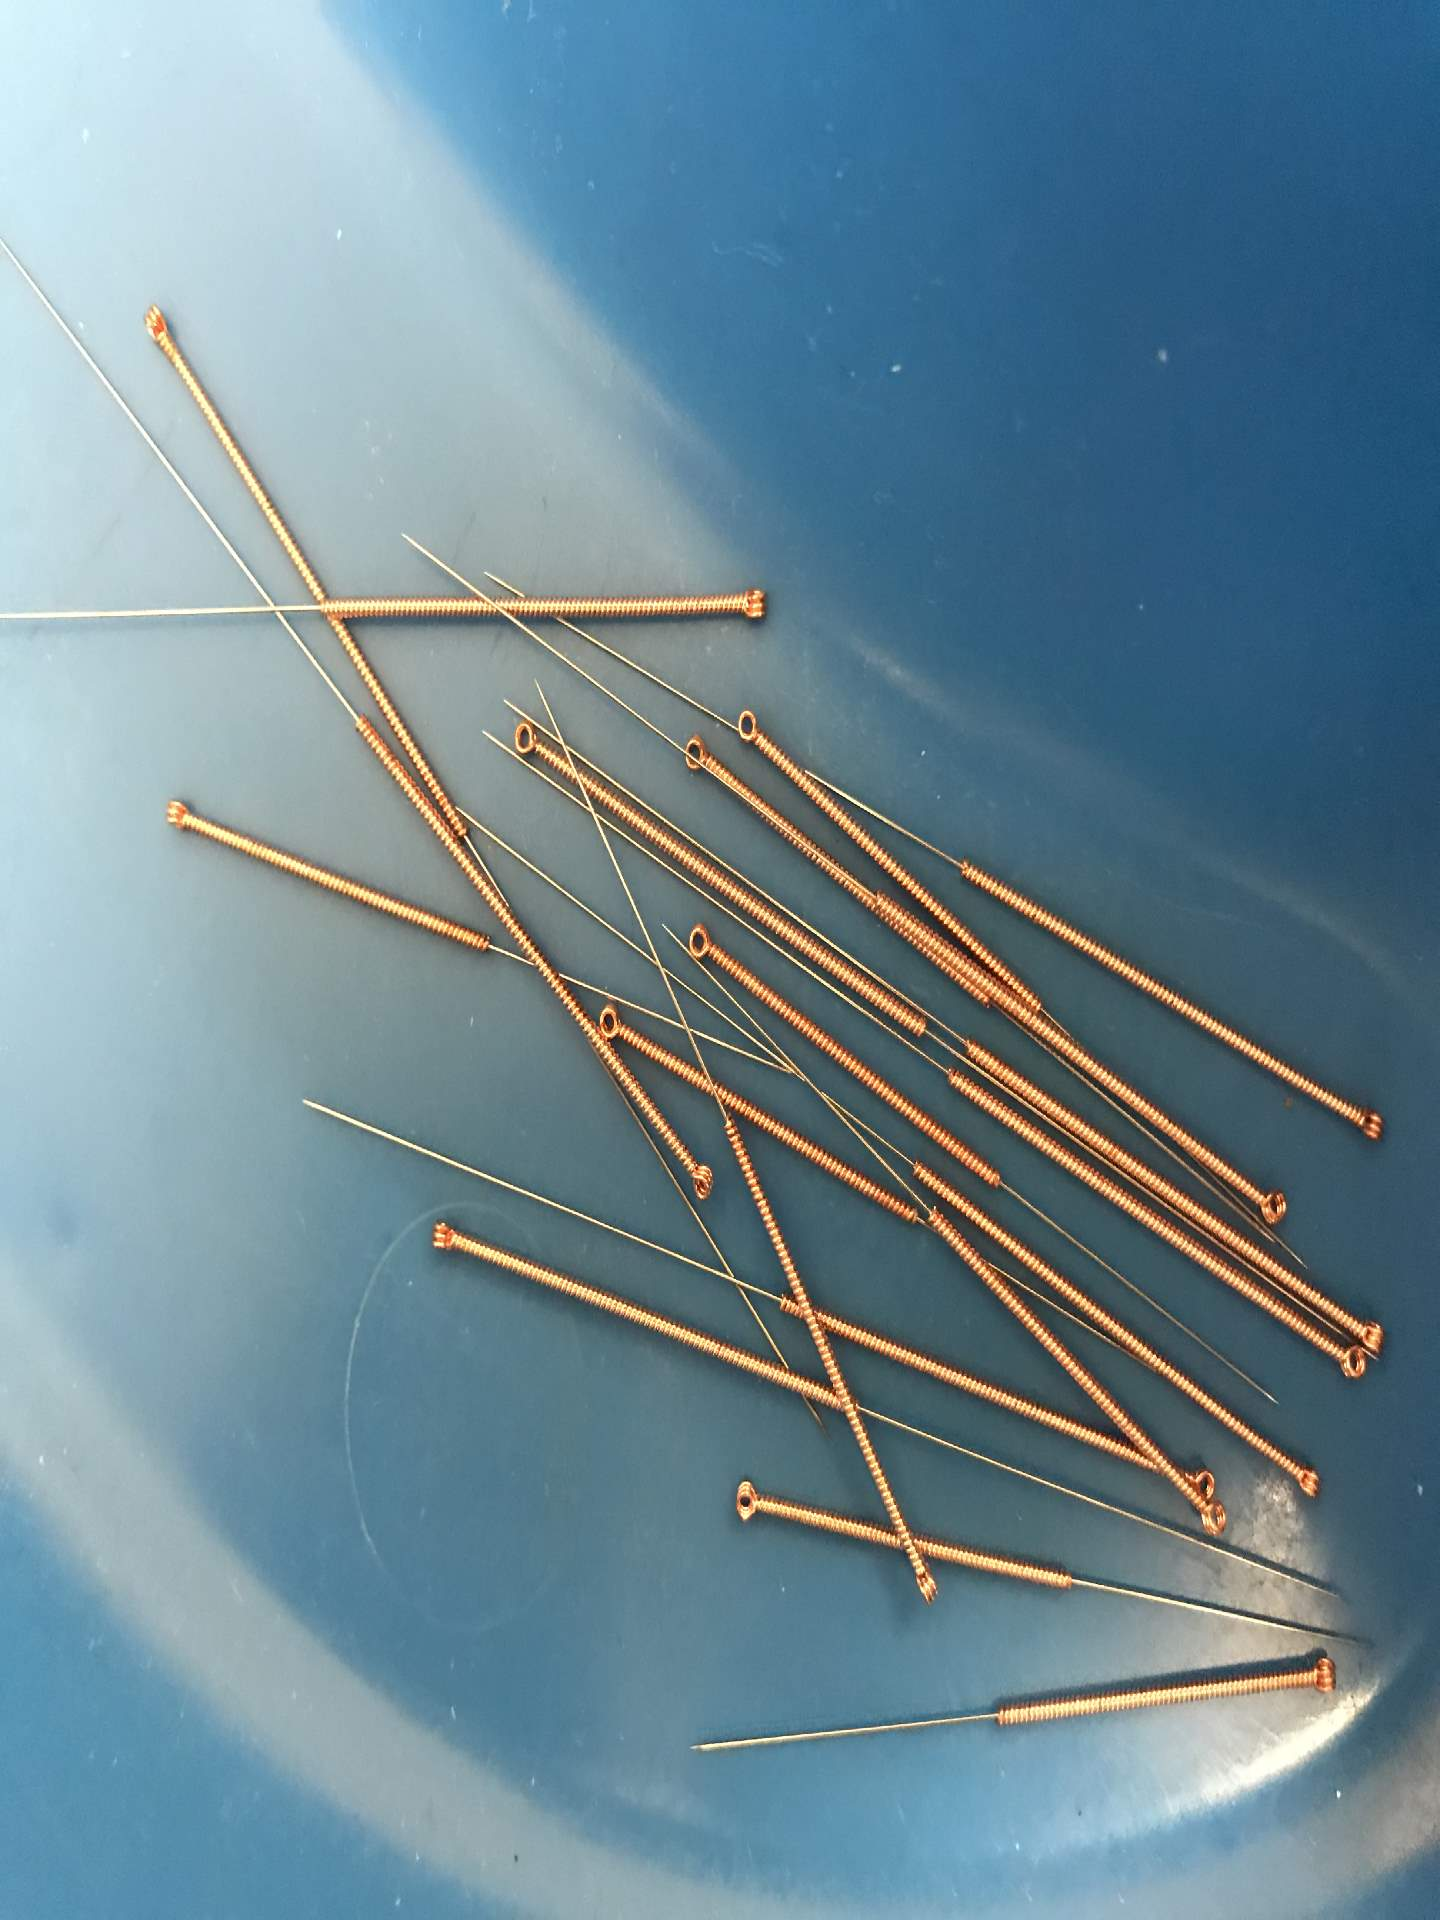needle: (711, 1462, 781, 1541), (715, 570, 785, 636), (408, 1202, 475, 1271), (147, 779, 209, 847), (495, 705, 557, 771), (1289, 1642, 1352, 1704), (1277, 1448, 1336, 1510), (891, 1562, 953, 1619), (722, 695, 776, 757), (1245, 1175, 1299, 1235), (129, 293, 182, 354), (672, 730, 726, 782), (1345, 1095, 1393, 1152), (678, 915, 725, 972), (678, 1150, 722, 1206), (1322, 1342, 1373, 1389), (1189, 1501, 1236, 1539), (1351, 1311, 1389, 1350), (1187, 1456, 1221, 1500), (596, 999, 626, 1042)
